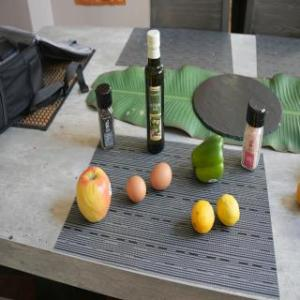bell_pepper: (188, 130, 230, 188)
egg: (148, 161, 178, 199), (124, 174, 150, 208)
